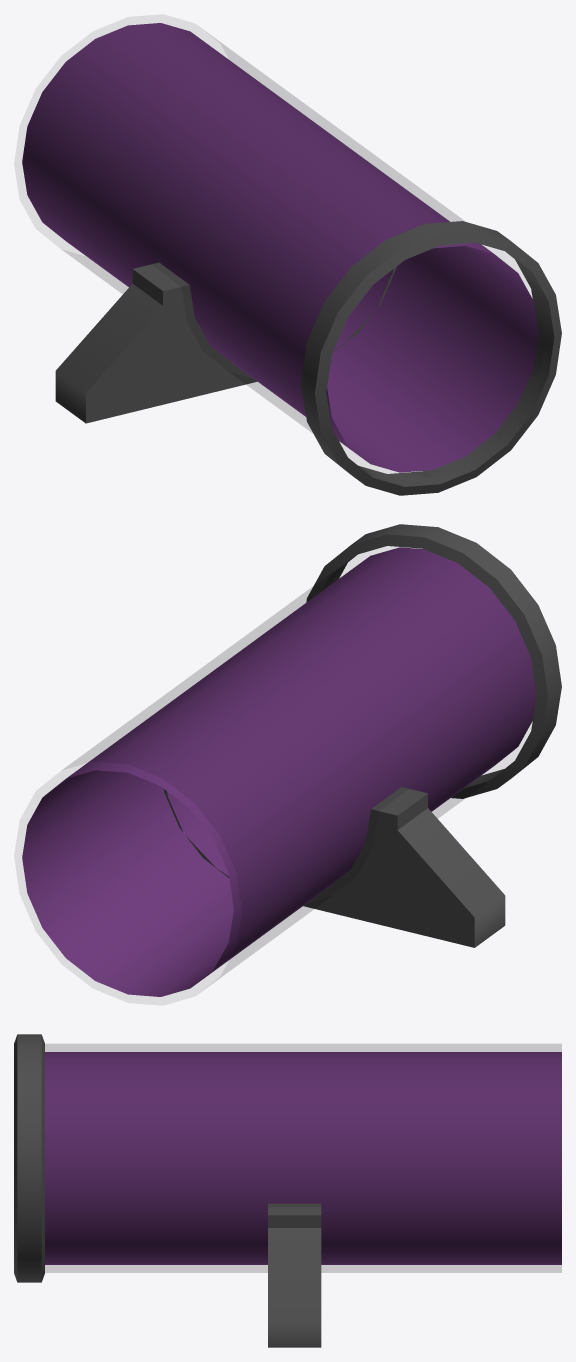
File: Pipe_Straigth.fbx
3 renders of one model, top to bottom at view 1: azimuth 30°, elevation 25°; view 2: azimuth 150°, elevation 25°; view 3: azimuth 270°, elevation 25°, orthographic. The views are drawn at different scales.
Parts seen in each view (by area): view 1: Pipe_Straigth; view 2: Pipe_Straigth; view 3: Pipe_Straigth.
Part boxes in pixels (x1=…): Pipe_Straigth: x1=22, y1=23, x2=561, y2=495; Pipe_Straigth: x1=22, y1=524, x2=561, y2=996; Pipe_Straigth: x1=14, y1=1034, x2=561, y2=1347.
Size of the model in its own units: 0.7946 by 0.4686 by 1.03.
